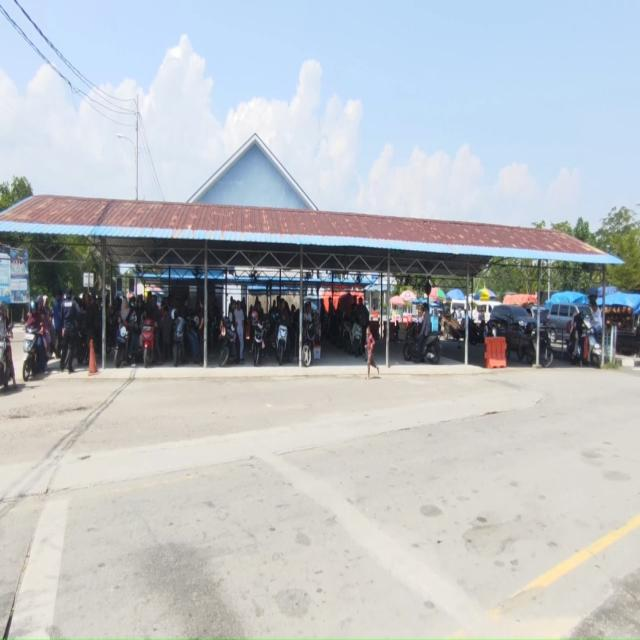Golongan II: (568, 312, 602, 367), (516, 323, 554, 368), (403, 323, 441, 364), (22, 327, 40, 382), (219, 318, 237, 367), (75, 312, 89, 366), (0, 326, 12, 389), (114, 321, 129, 369), (302, 320, 317, 367), (251, 320, 266, 366), (173, 314, 186, 367), (141, 321, 155, 368), (348, 322, 364, 357), (340, 316, 354, 352), (276, 324, 288, 365)
